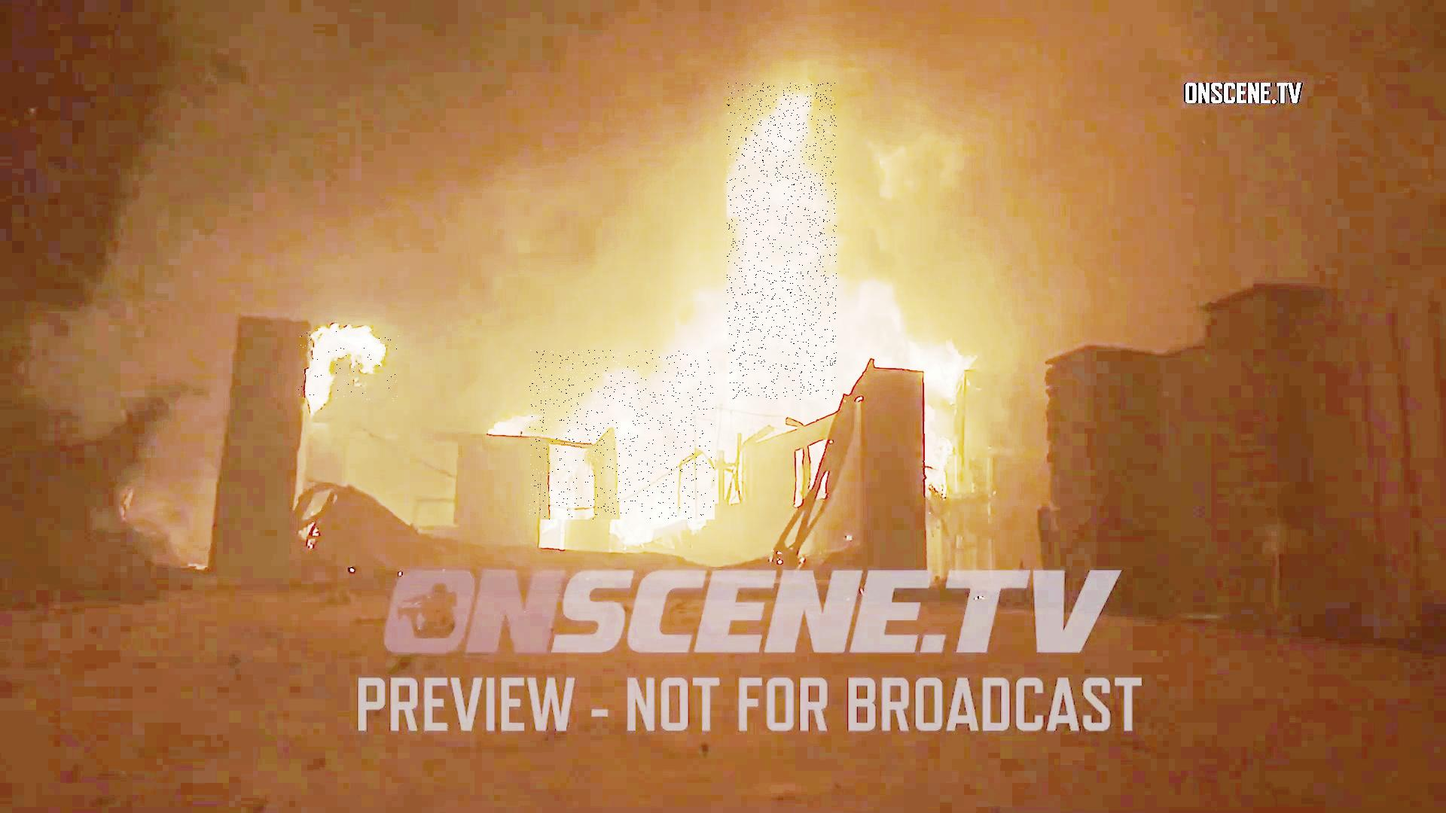fire: (727, 83, 837, 400), (529, 350, 715, 520), (299, 332, 400, 404)
